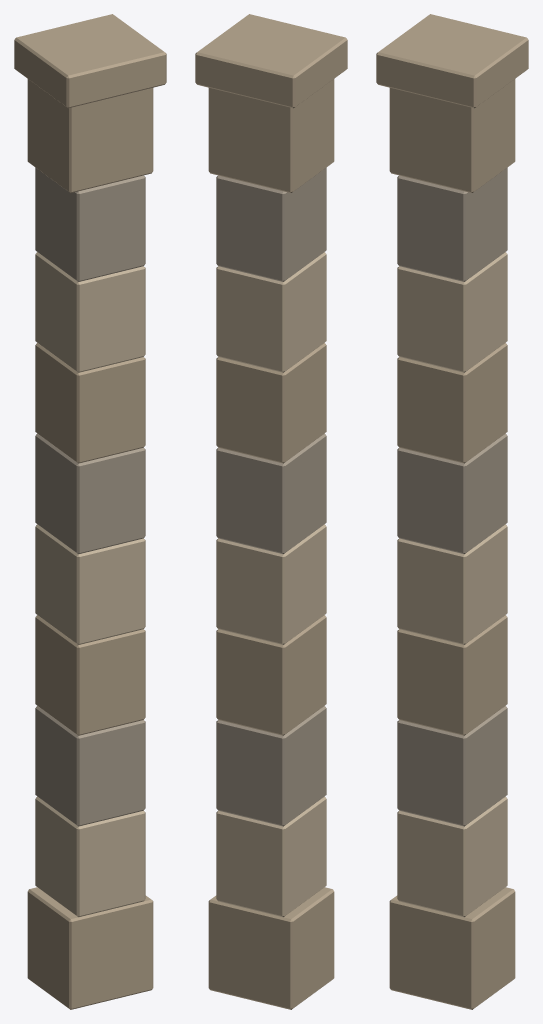
Rendered from stone_pier.glb.
The picture shows the model from 3 angles, left to right: view 1: azimuth 30°, elevation 25°; view 2: azimuth 150°, elevation 25°; view 3: azimuth 330°, elevation 25°; orthographic projection.
Parts seen in each view (by area): view 1: stone_pier; view 2: stone_pier; view 3: stone_pier.
Boxes of the visible parts, box(x1,y1,x2,y2) form: stone_pier: box(14, 14, 166, 1009); stone_pier: box(195, 14, 347, 1009); stone_pier: box(376, 14, 528, 1009).
Size of the model in its own units: 0.32 by 2.87 by 0.3.
